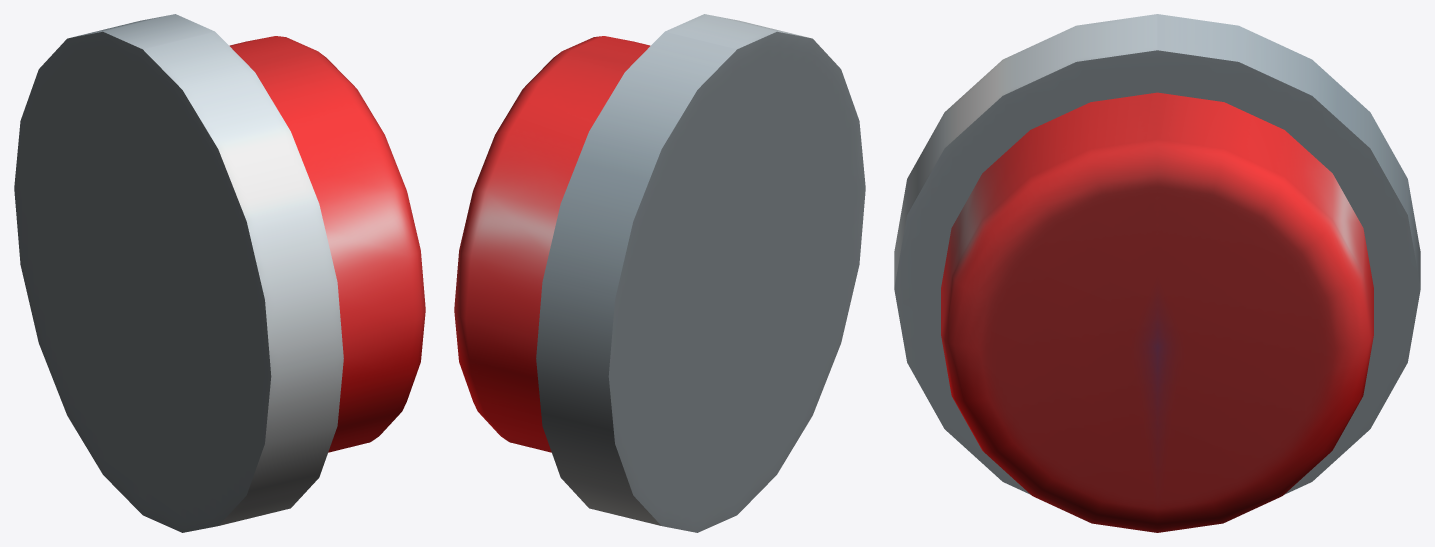
File: 61_ELM_redButton.fbx
3 renders of one model, left to right at view 1: azimuth 30°, elevation 25°; view 2: azimuth 150°, elevation 25°; view 3: azimuth 270°, elevation 25°, orthographic. The views are drawn at different scales.
Parts seen in each view (by area): view 1: redButton_part02_grp, redButton_part01_grp; view 2: redButton_part02_grp, redButton_part01_grp; view 3: redButton_part01_grp, redButton_part02_grp.
Part boxes in pixels (x1,y1,x2,y2): redButton_part02_grp: (14,14,343,532); redButton_part01_grp: (229,36,425,452); redButton_part02_grp: (536,14,865,532); redButton_part01_grp: (454,36,650,452); redButton_part01_grp: (941,92,1373,532); redButton_part02_grp: (894,14,1420,494).
Bounding box in the file's own units: 0.3969 × 0.9241 × 0.9241.
